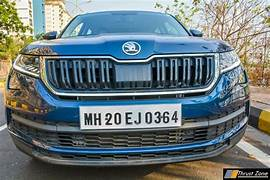number_plate: (80, 105, 181, 128)
